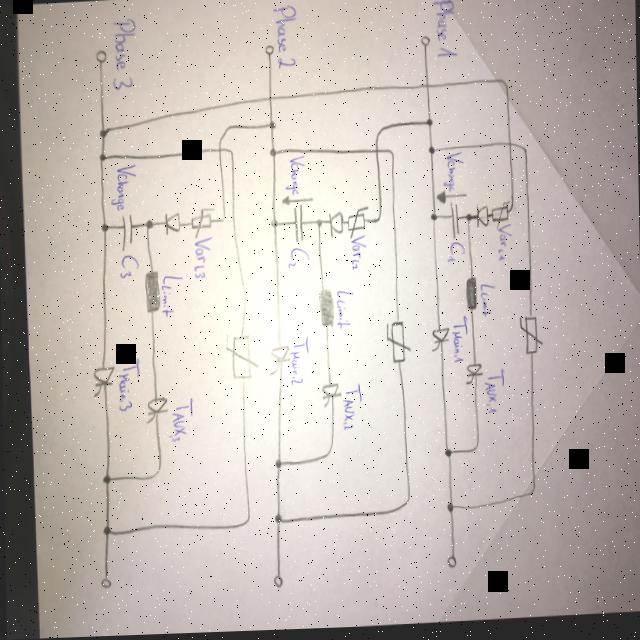capacitor: (119, 214, 133, 252), (292, 205, 304, 245), (448, 204, 459, 242)
crossover: (266, 95, 274, 107), (423, 83, 430, 93), (373, 148, 379, 159), (216, 146, 222, 155), (507, 143, 513, 151)
diode: (326, 212, 344, 240), (163, 211, 180, 236), (475, 207, 488, 231)
inductor: (143, 270, 161, 314), (318, 290, 334, 330), (464, 279, 477, 313)
junction: (396, 497, 412, 513), (374, 126, 386, 141), (150, 465, 162, 479), (323, 445, 333, 461), (144, 219, 154, 233), (98, 125, 108, 139), (272, 514, 282, 528), (240, 516, 250, 529), (442, 449, 452, 462), (498, 80, 508, 93), (220, 126, 230, 138), (101, 474, 111, 486), (101, 525, 111, 537), (518, 147, 528, 159), (374, 211, 382, 226), (268, 120, 276, 133), (446, 504, 454, 517), (528, 487, 536, 500), (270, 219, 278, 231), (314, 219, 322, 231), (273, 460, 281, 472), (268, 148, 276, 159), (425, 119, 433, 130), (427, 147, 435, 158), (430, 214, 438, 225), (472, 444, 479, 456), (100, 223, 108, 233), (98, 152, 106, 162), (386, 150, 394, 160), (220, 214, 227, 225), (464, 215, 472, 224), (226, 149, 233, 158), (509, 206, 514, 216)
terminal: (100, 573, 112, 590), (95, 49, 107, 65), (272, 574, 284, 590), (420, 36, 431, 50), (446, 557, 456, 572), (264, 45, 274, 59)
text: (109, 18, 137, 90), (271, 4, 298, 71), (431, 1, 458, 61), (109, 163, 138, 214), (116, 358, 140, 414), (166, 397, 194, 444), (288, 337, 310, 389), (159, 274, 184, 319), (340, 385, 362, 434), (482, 371, 505, 417), (441, 153, 464, 196), (192, 236, 213, 280), (284, 156, 305, 199), (333, 291, 354, 331), (451, 318, 468, 366), (348, 236, 367, 273), (478, 285, 496, 320), (496, 226, 512, 265), (286, 247, 310, 272), (118, 253, 140, 280), (446, 243, 464, 266)
thyristor: (92, 365, 115, 398), (269, 346, 290, 377), (146, 397, 168, 425), (320, 385, 340, 409), (431, 330, 449, 355), (465, 366, 483, 388)
